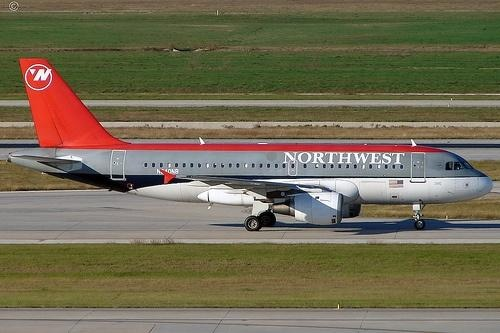aeroplane: (10, 57, 494, 232)
